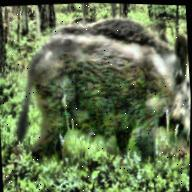boar: (3, 12, 192, 188)
